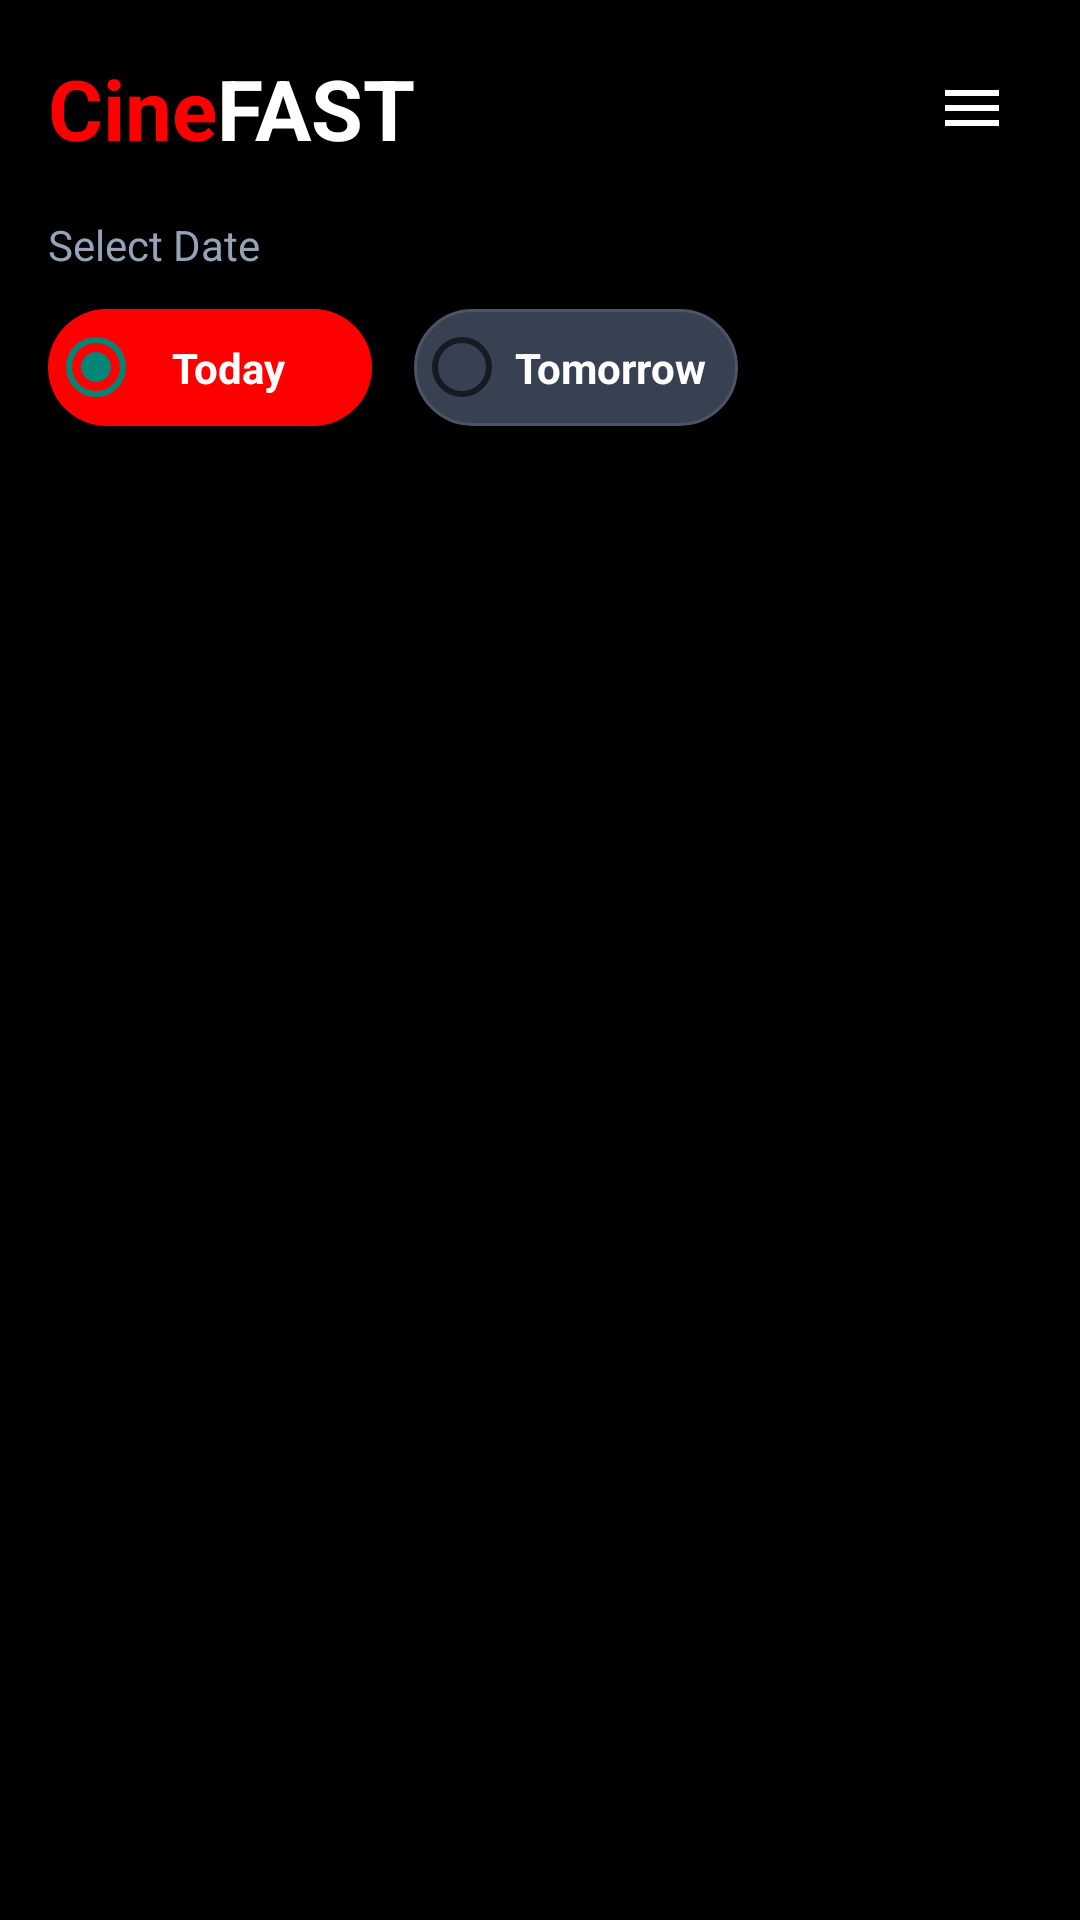

Screen size 1080×1920. Icon name, then its center in pixels as [x,y]:
Menu: [972,108]
